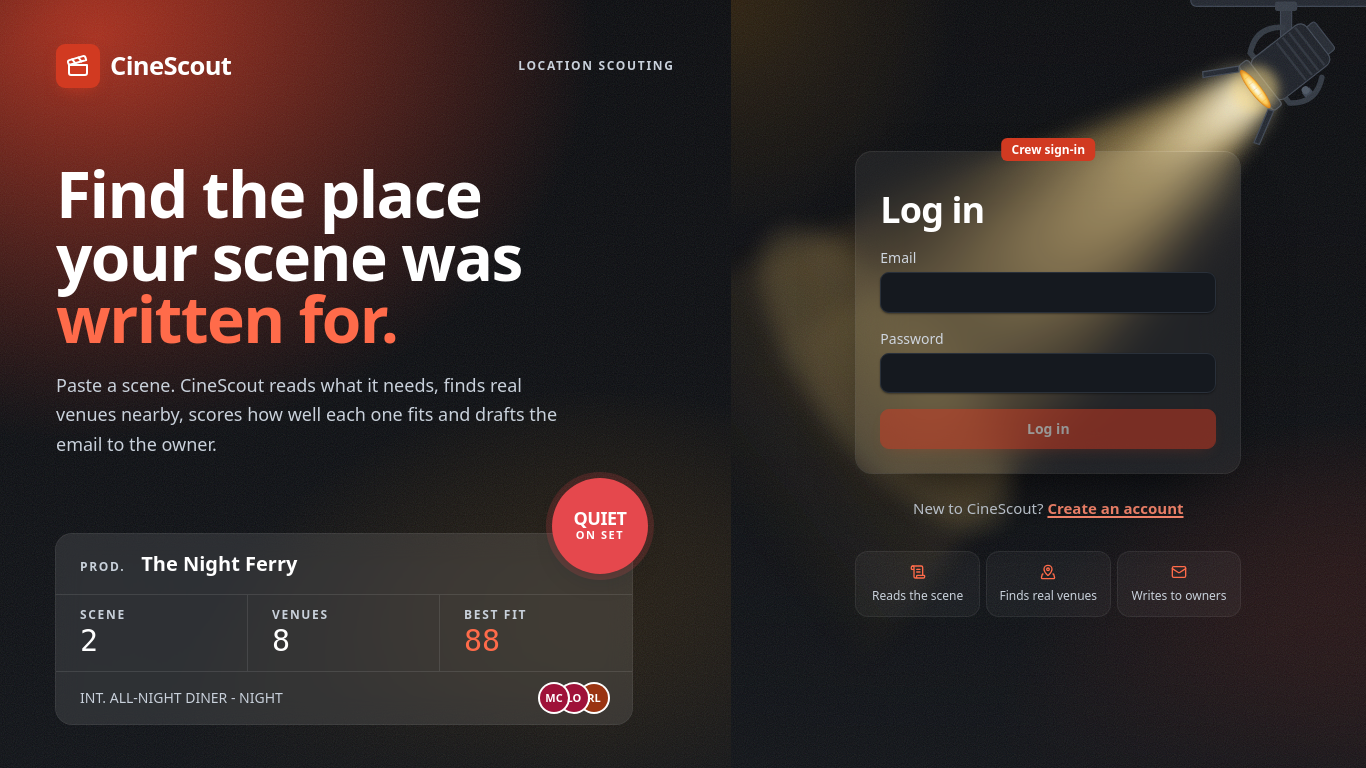
Test: a shared call sheet › names the sun only while it is up, and says TBC only when a scene has no location
Type "ada@example.com" into the field labelled "Email" at (1048, 293), box [880,272,1216,313]
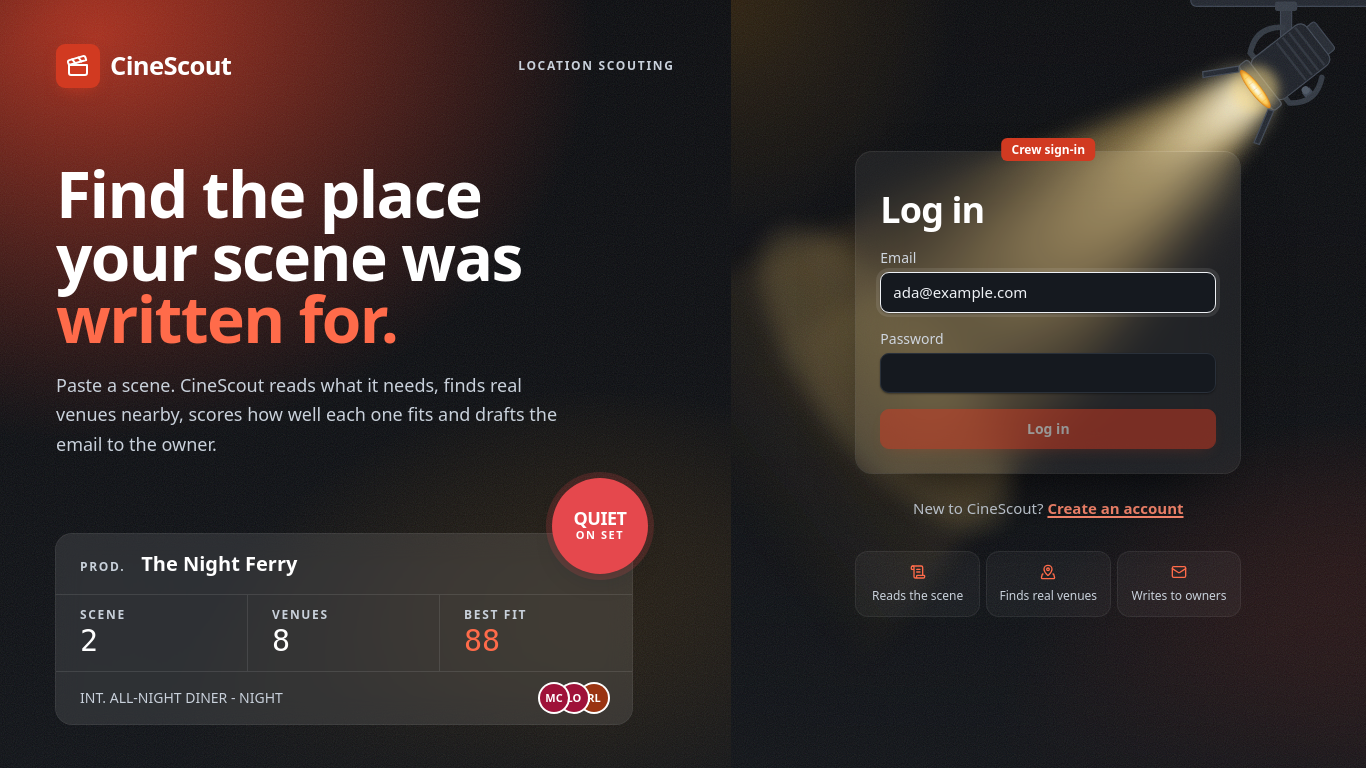
Type "a-long-password" into the password field labelled "Password" at (1048, 373), box [880,353,1216,393]
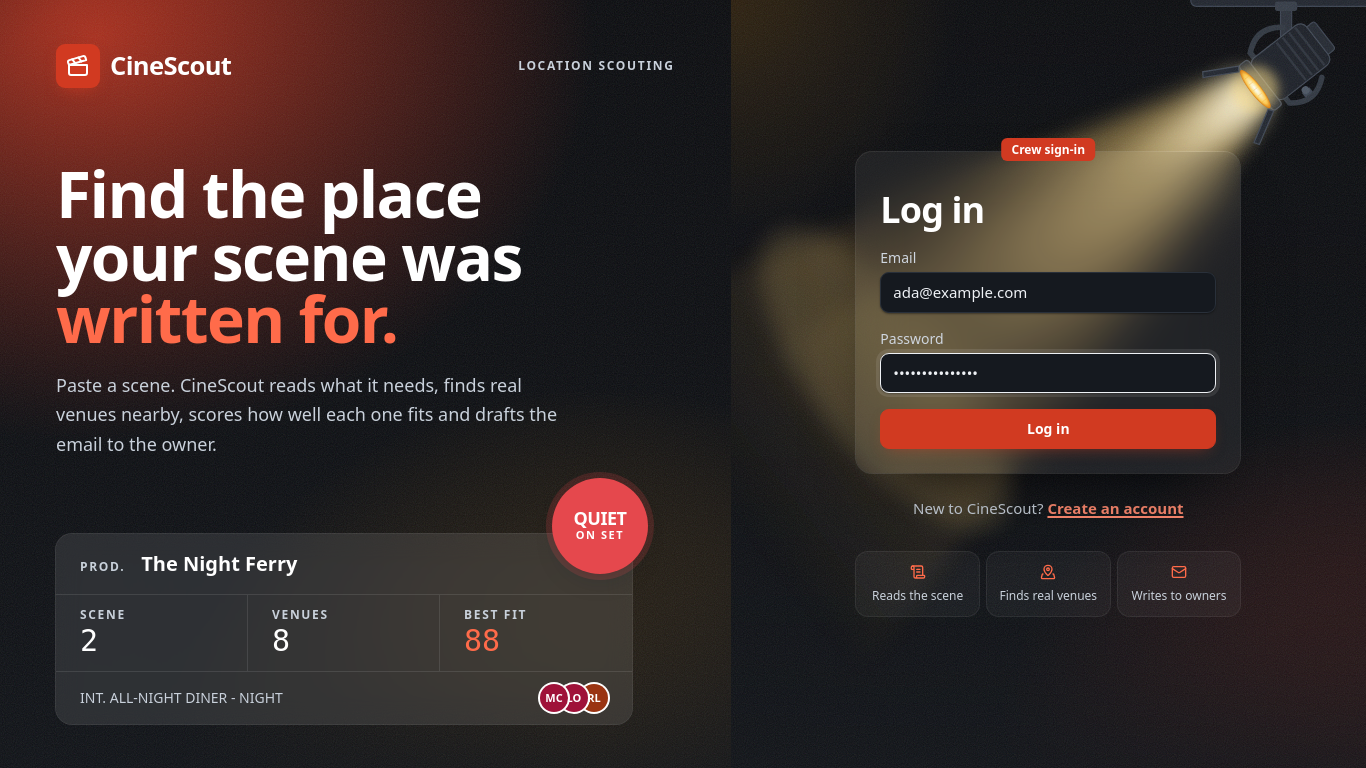
Click the button "Log in" at (1048, 429), box [880,409,1216,449]
(page scrolled)
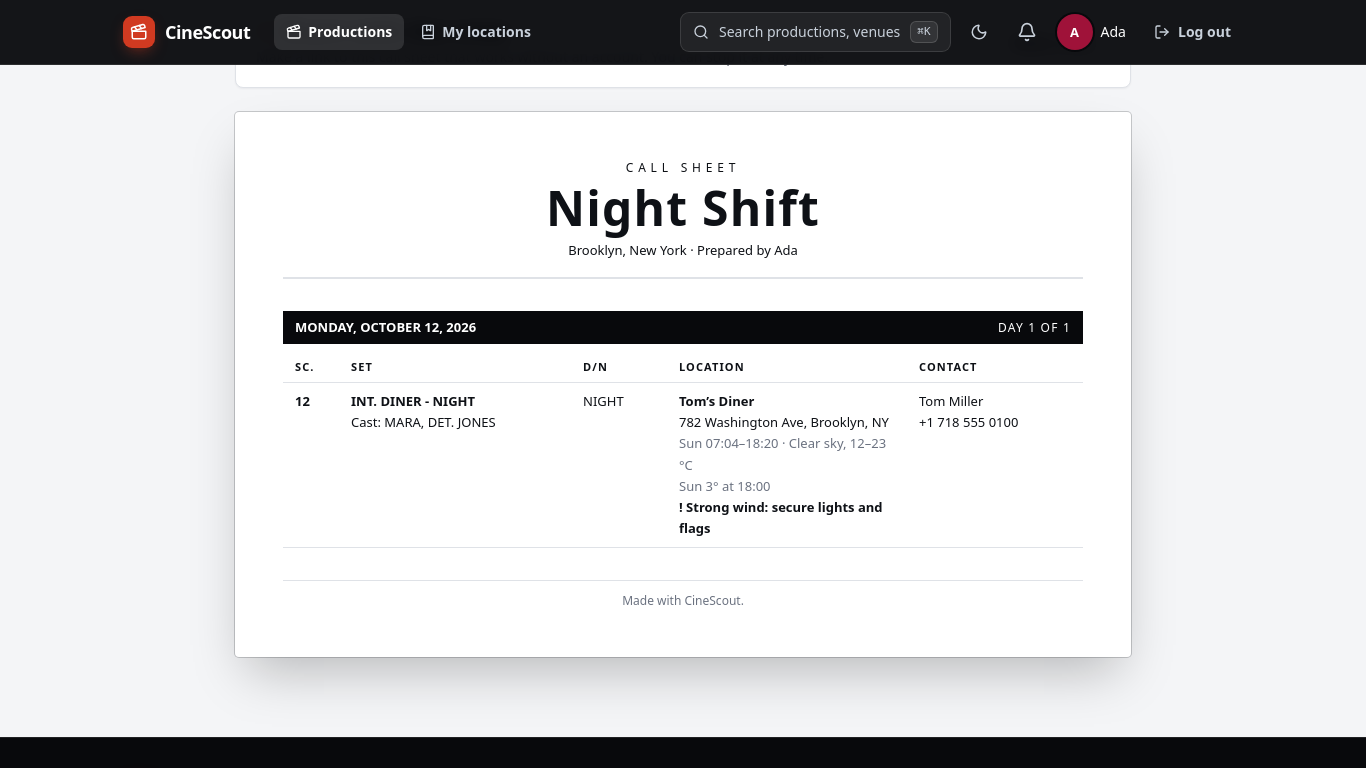
Expected: the element "Call sheet" does not show "Sun -40° at 23:00", [235,112,1131,657]
Expected: the element "Call sheet" shows "Sun 3° at 18:00", [679,477,771,495]
